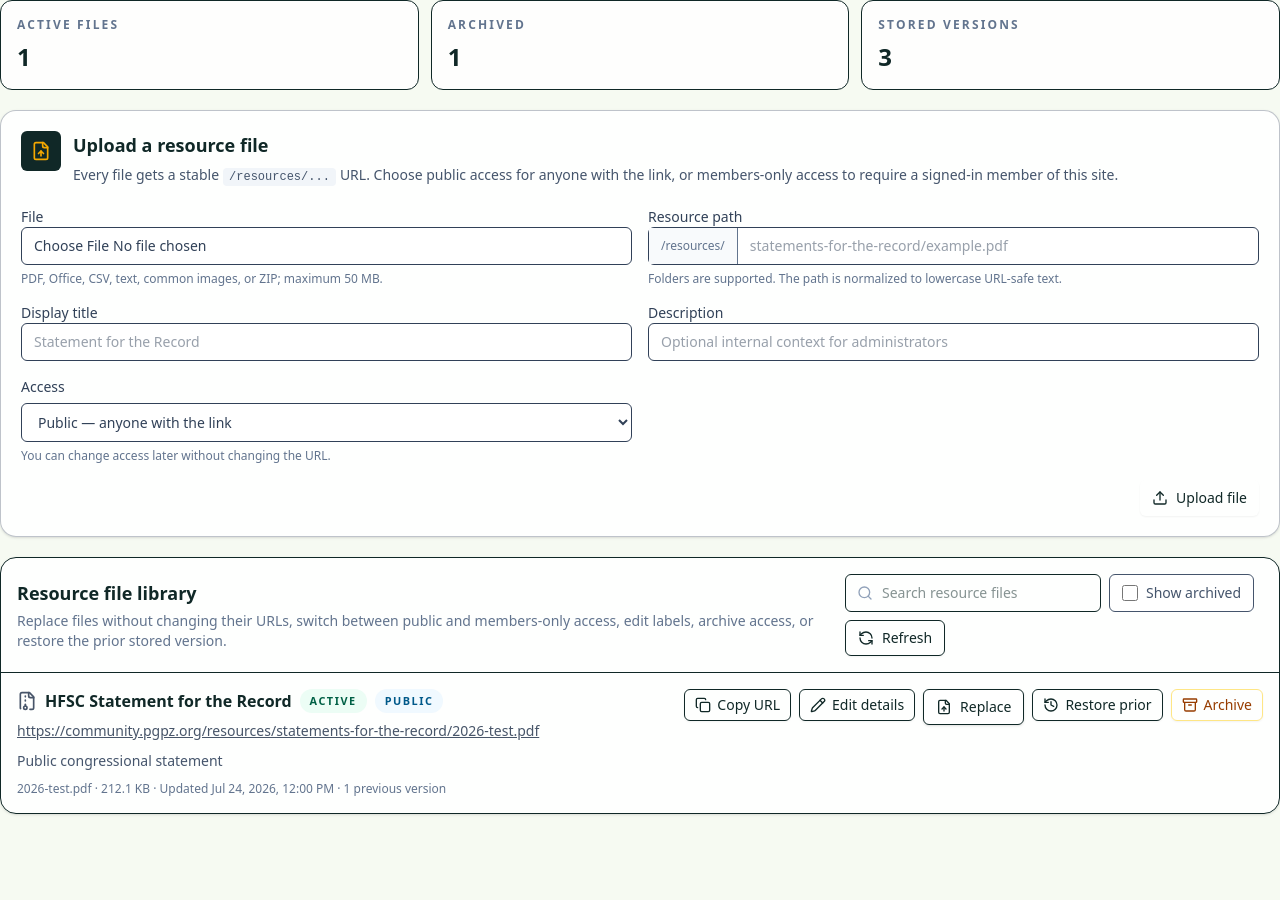
Test: PublicFileLibraryPanel › allows access to be changed while editing file details
This screenshot has width=1280, height=900.
Check: the heading "HFSC Statement for the Record" is shown, box [45,689,292,713]
Step 1. Click the button "Edit details" → (857, 705), box [799,689,915,721]
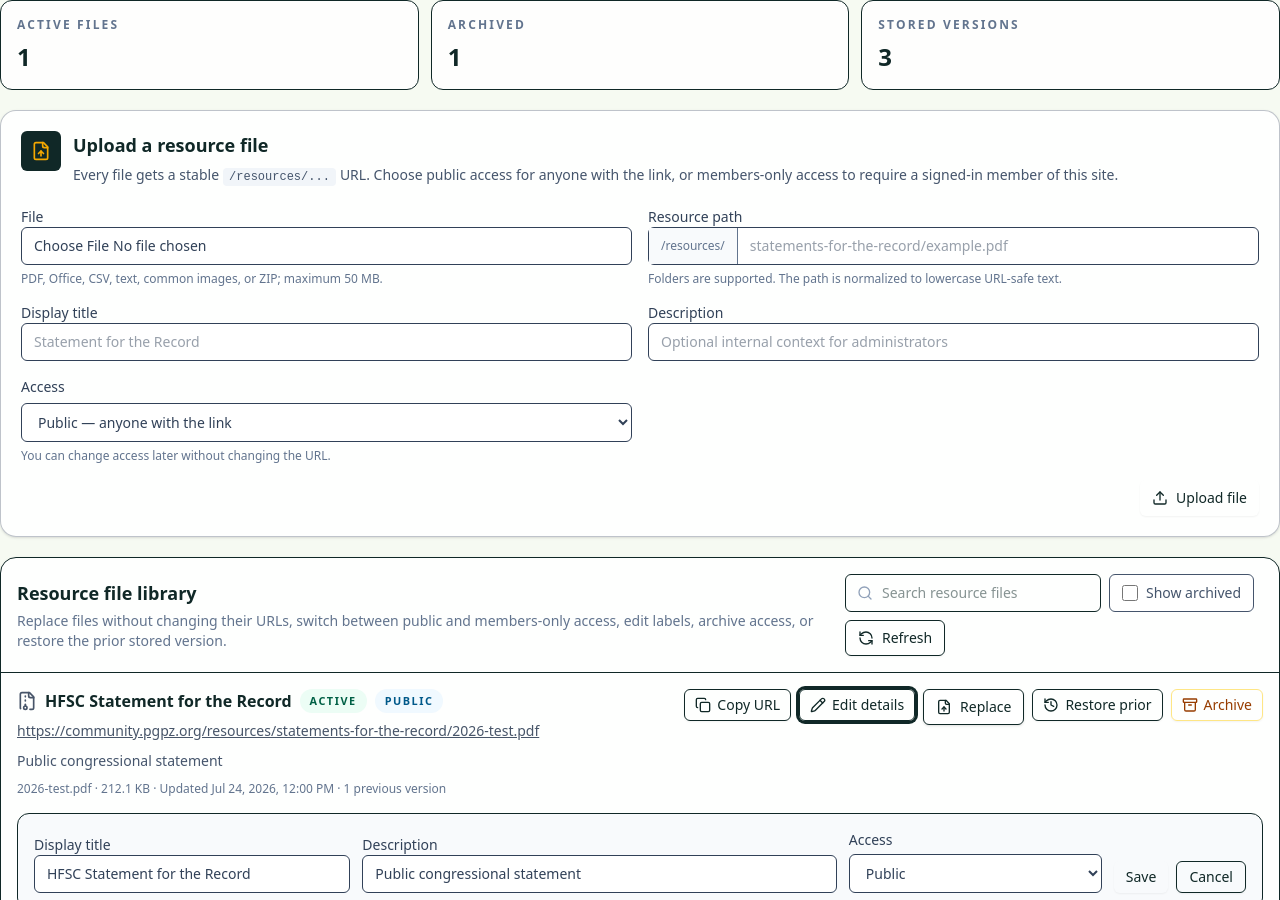
Step 2. Select "Members only" in the dropdown labelled "Access" below "Show archived" → (975, 874), box [849,854,1102,893]
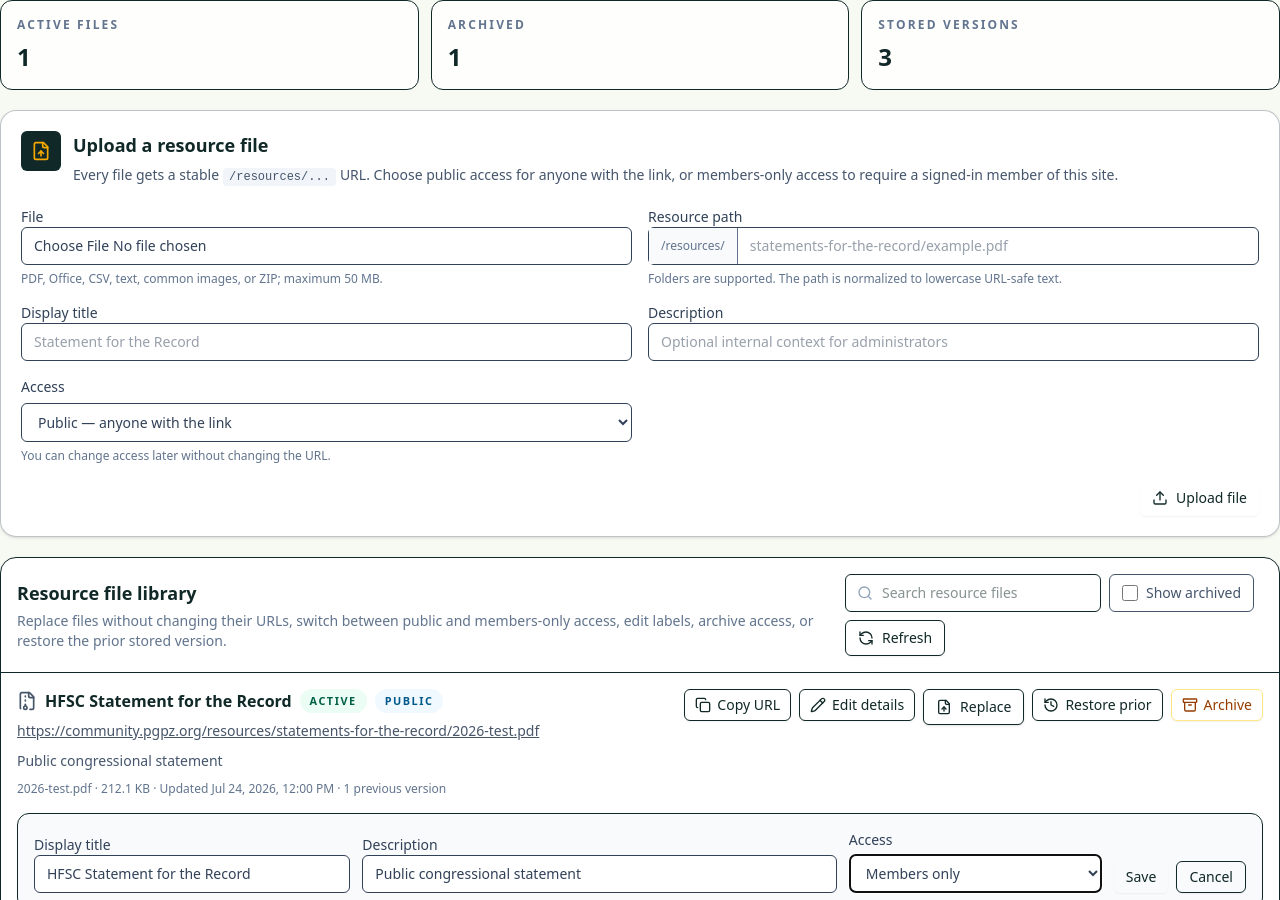
Step 3. Click the button "Save" → (1141, 877), box [1114,861,1168,893]
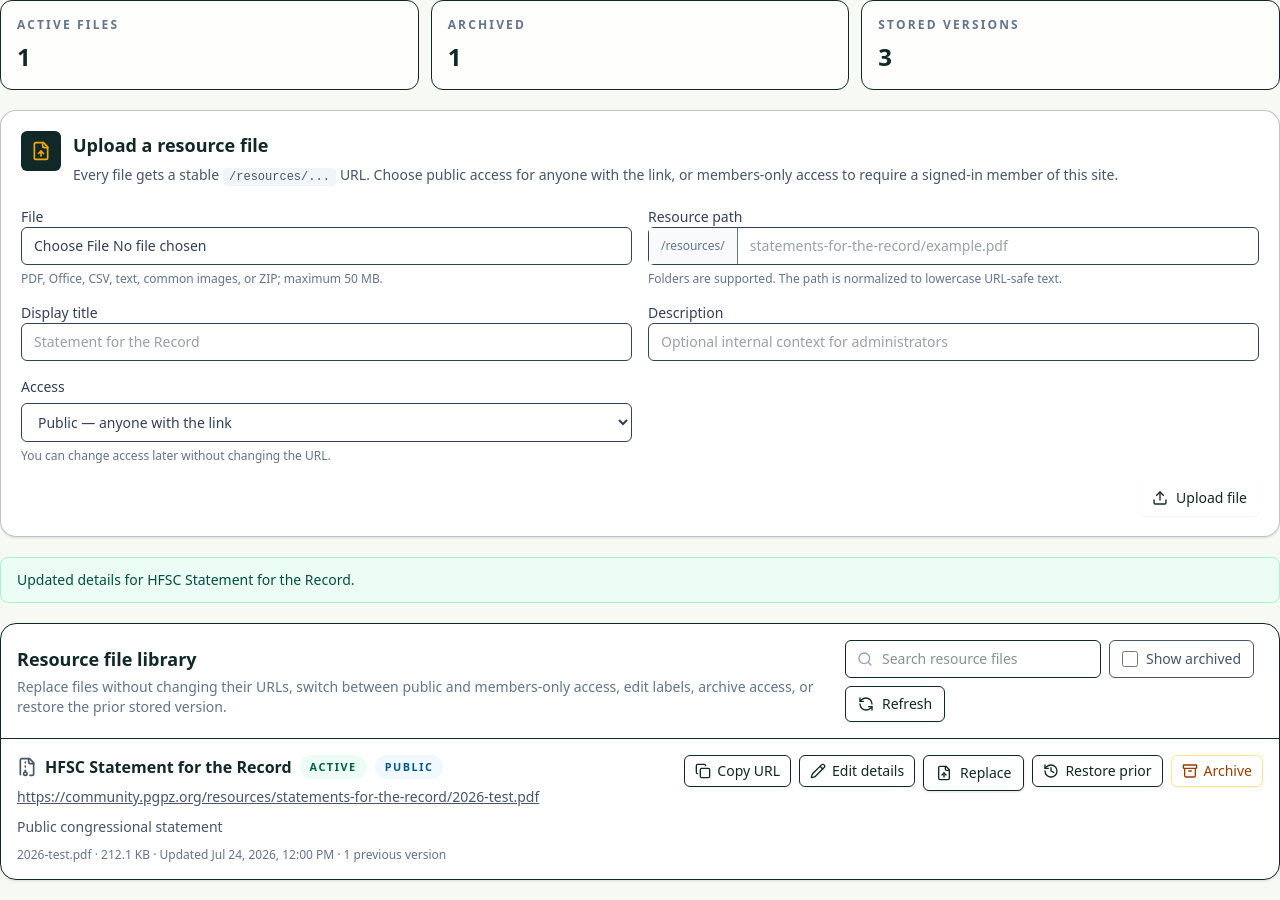
Check: the message reads "Updated details for HFSC Statement for the Record.", box [17,570,354,589]
